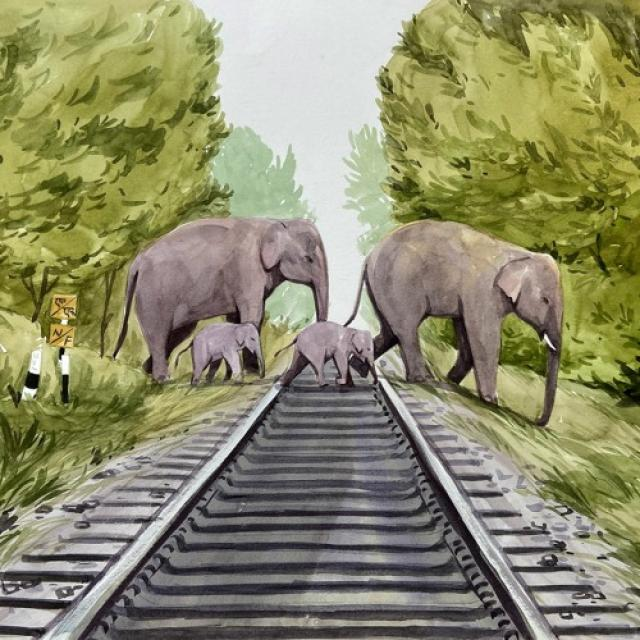Elephant: (107, 192, 341, 408), (363, 209, 575, 426), (182, 313, 274, 397), (289, 310, 365, 401)
